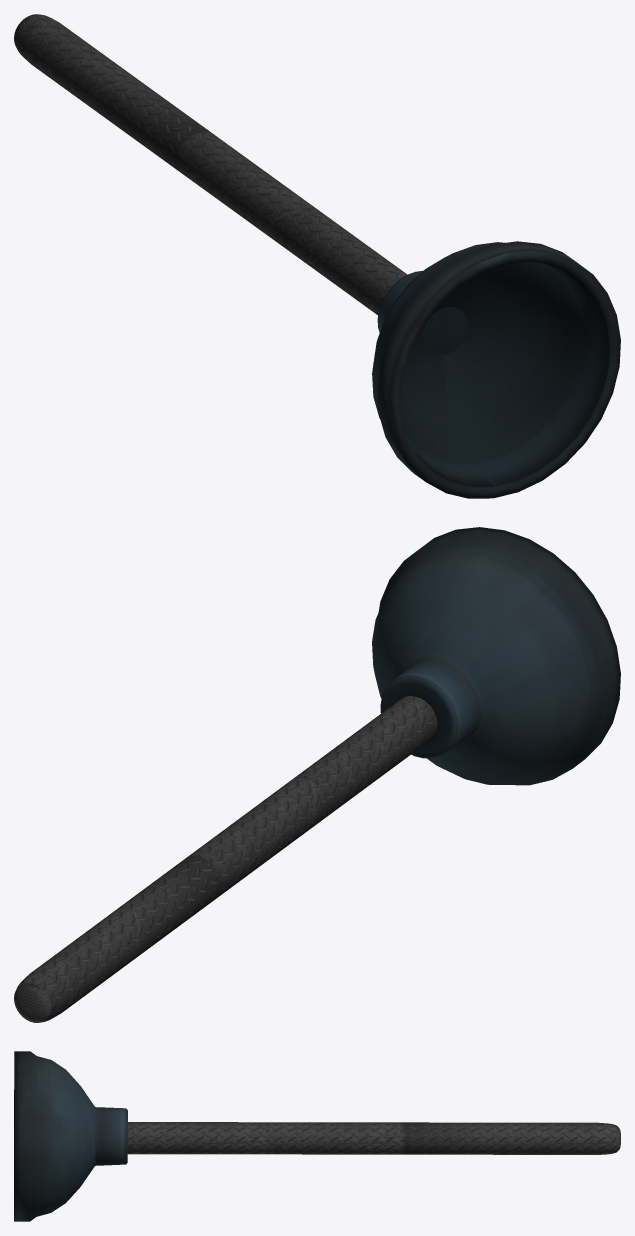
The model's file is bedroom1_plunger_01.glb.
3 views of the same model, one above another, from view 1: azimuth 30°, elevation 25°; view 2: azimuth 150°, elevation 25°; view 3: azimuth 270°, elevation 25° (orthographic). The views are drawn at different scales.
Visible parts, largest first — view 1: 00G_plunger-boy2_0; view 2: 00G_plunger-boy2_0; view 3: 00G_plunger-boy2_0.
Part boxes in pixels (box(x1,y1,x2,y2)): 00G_plunger-boy2_0: box(14, 14, 620, 498); 00G_plunger-boy2_0: box(14, 527, 620, 1022); 00G_plunger-boy2_0: box(14, 1051, 620, 1221).
Size of the model in its own units: 0.2706 by 0.2699 by 0.9627.
2 materials, 2 textured.
